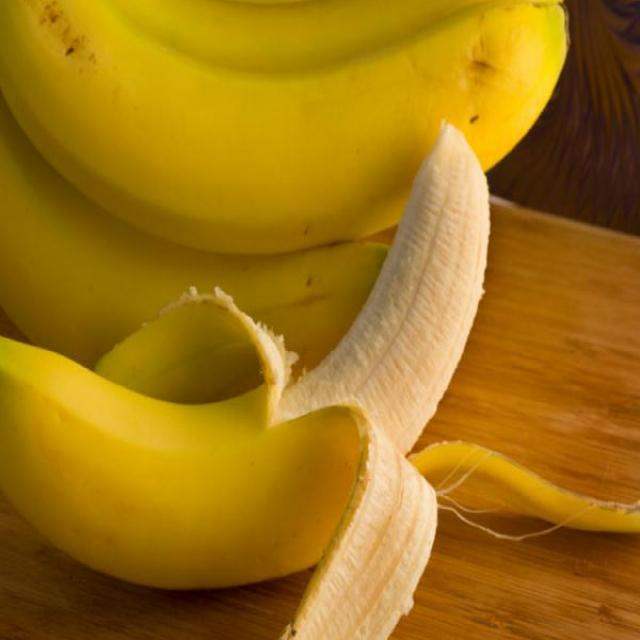banana: (1, 124, 536, 566), (0, 0, 385, 412), (1, 0, 588, 246)
